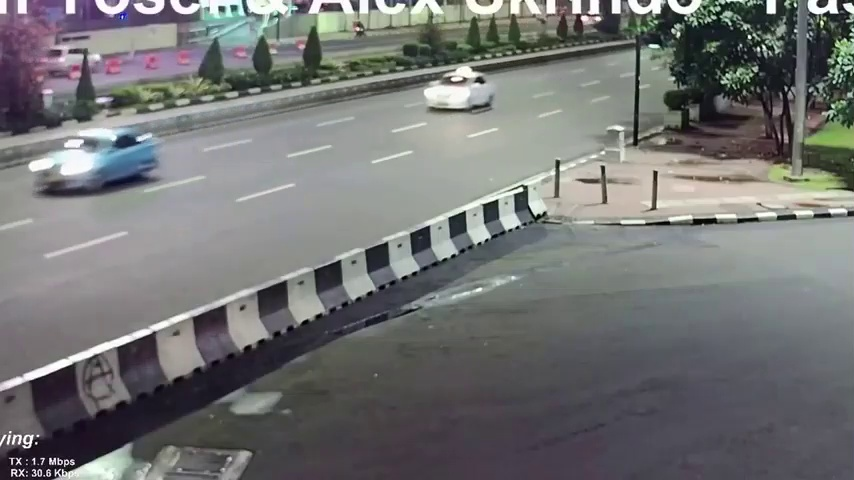car: (29, 129, 157, 195), (425, 68, 492, 112), (43, 44, 102, 76)
